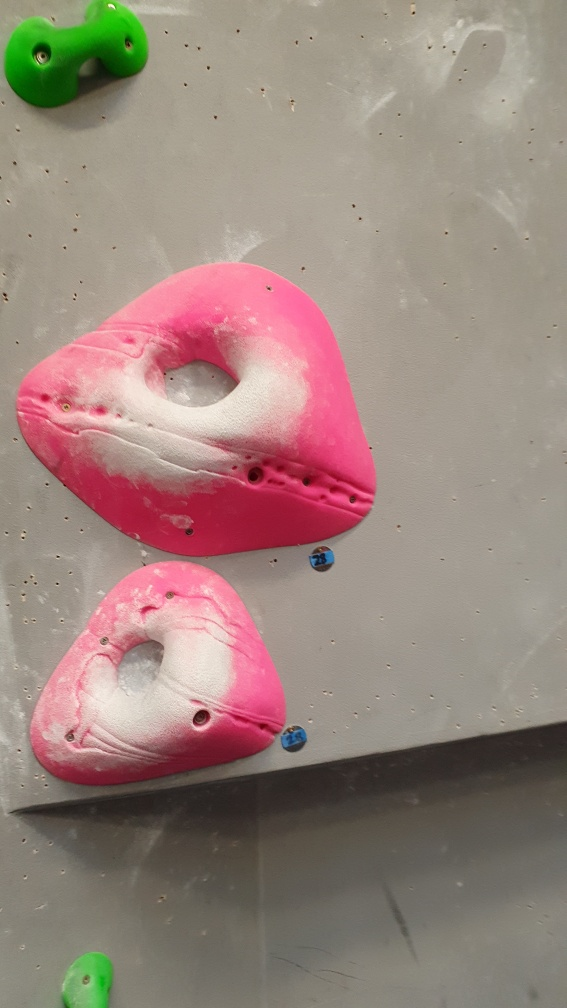Hand Start: (275, 722, 312, 760), (304, 543, 339, 577)
Pocket: (15, 255, 379, 562), (23, 560, 289, 795)
